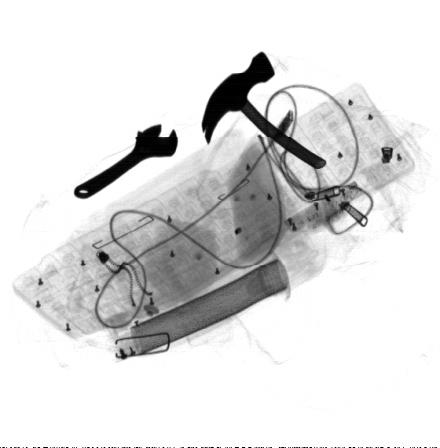Hammer: (201, 50, 327, 170)
Wrench: (73, 124, 179, 198)
